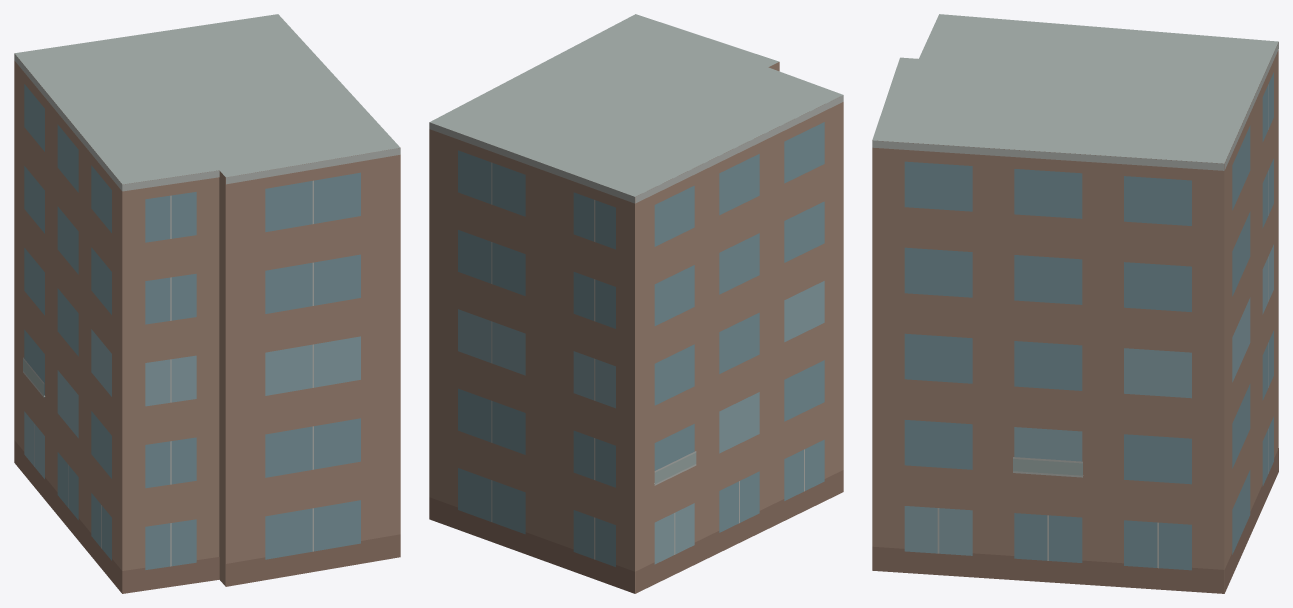
File: survey-upis-32957779.glb
The picture shows the model from 3 angles, left to right: view 1: azimuth 30°, elevation 25°; view 2: azimuth 150°, elevation 25°; view 3: azimuth 270°, elevation 25°; orthographic projection. The views are drawn at different scales.
Parts seen in each view (by area): view 1: survey-upis-32957779.tmp; view 2: survey-upis-32957779.tmp; view 3: survey-upis-32957779.tmp.
Part boxes in pixels (x1,y1,x2,y2): survey-upis-32957779.tmp: (14, 14, 400, 593); survey-upis-32957779.tmp: (429, 14, 843, 593); survey-upis-32957779.tmp: (872, 14, 1278, 593).
Size of the model in its own units: 10.67 by 14.3 by 12.26.
